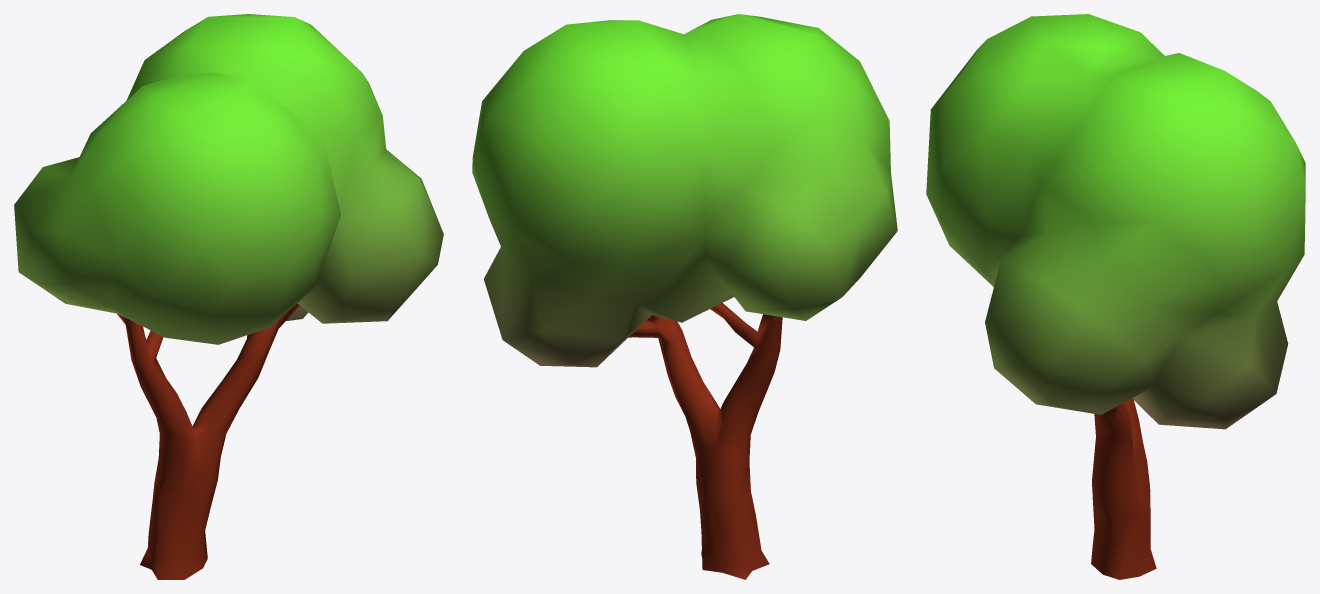
File: Plants_Tree_2.fbx
3 views of the same model, side by side, from view 1: azimuth 30°, elevation 25°; view 2: azimuth 150°, elevation 25°; view 3: azimuth 270°, elevation 25° (orthographic). The views are drawn at different scales.
Parts seen in each view (by area): view 1: Plants_Tree_2_LOD0; view 2: Plants_Tree_2_LOD0; view 3: Plants_Tree_2_LOD0.
Part boxes in pixels (left/top/right/bottom): Plants_Tree_2_LOD0: left=14, top=14, right=443, bottom=579; Plants_Tree_2_LOD0: left=472, top=14, right=897, bottom=579; Plants_Tree_2_LOD0: left=926, top=14, right=1305, bottom=579.
Size of what is drawn, in the model's own units: 502 by 655 by 415.
